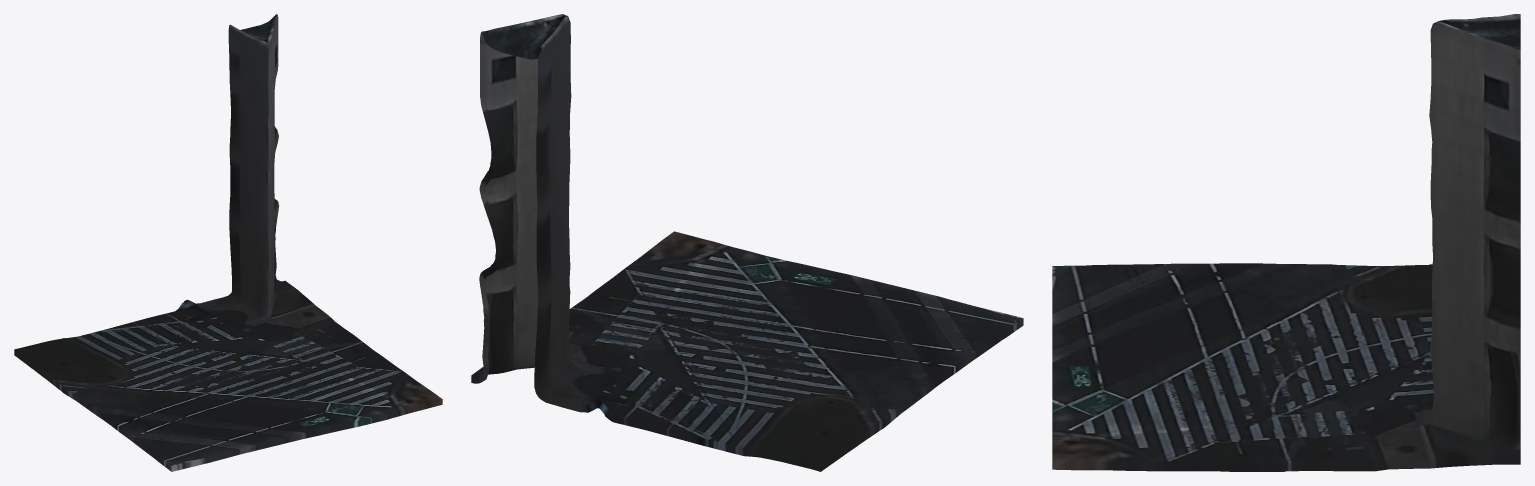
The model's file is z20-167779-405231-h0-yup-uvflip-v3-world.glb.
3 views of the same model, side by side, from view 1: azimuth 30°, elevation 25°; view 2: azimuth 150°, elevation 25°; view 3: azimuth 270°, elevation 25° (orthographic). The views are drawn at different scales.
Size of the model in its own units: 30.16 by 29.88 by 30.32.
Materials: 1 (1 with a texture image).
